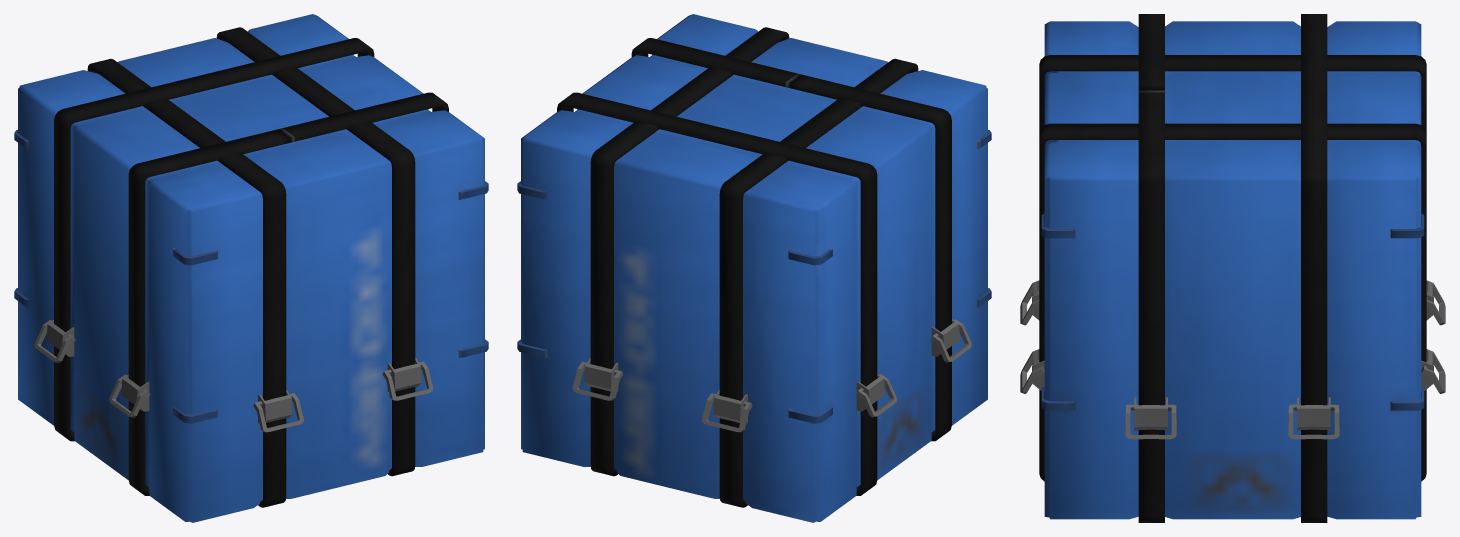
The model's file is prop_crate_tarp.glb.
3 views of the same model, side by side, from view 1: azimuth 30°, elevation 25°; view 2: azimuth 150°, elevation 25°; view 3: azimuth 270°, elevation 25° (orthographic). The views are drawn at different scales.
Visible parts, largest first — view 1: Prop_Crate_Tarp; view 2: Prop_Crate_Tarp; view 3: Prop_Crate_Tarp.
Part boxes in pixels (x1=…): Prop_Crate_Tarp: x1=14, y1=14, x2=488, y2=522; Prop_Crate_Tarp: x1=517, y1=14, x2=991, y2=522; Prop_Crate_Tarp: x1=1020, y1=14, x2=1445, y2=522.
Size of the model in its own units: 1.72 by 1.57 by 1.71.
Materials: 1 (1 with a texture image).
